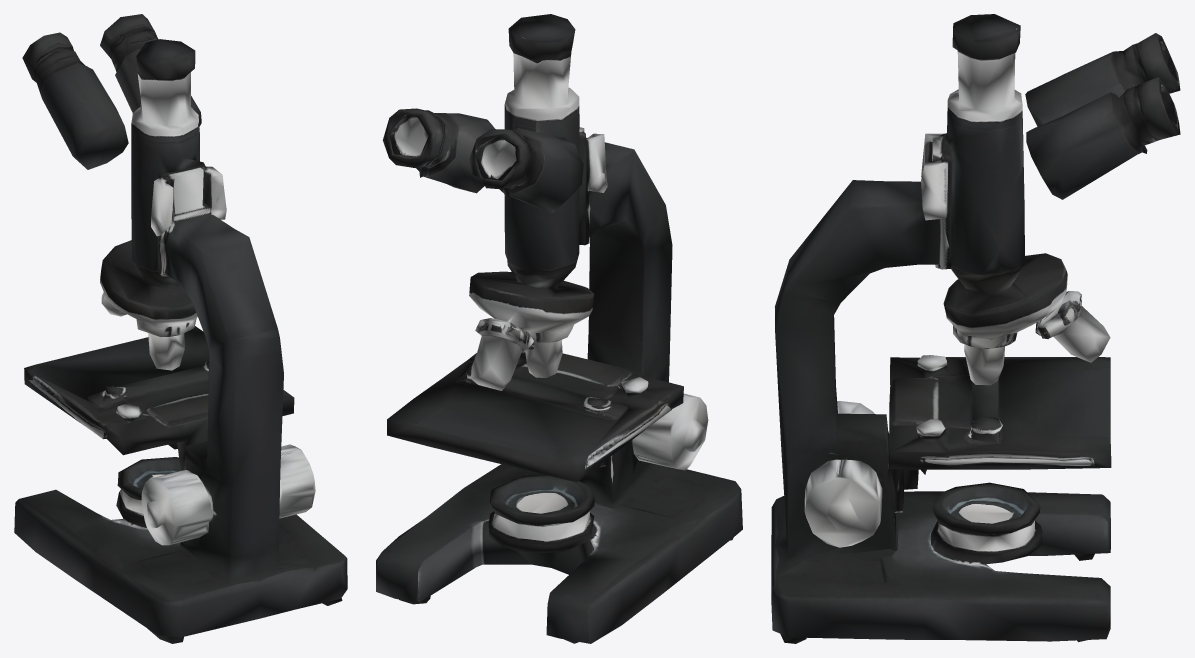
The model's file is microscope.glb.
The picture shows the model from 3 angles, left to right: view 1: azimuth 30°, elevation 25°; view 2: azimuth 150°, elevation 25°; view 3: azimuth 270°, elevation 25°; orthographic projection. The views are drawn at different scales.
Parts seen in each view (by area): view 1: tripo_node_b53a3d89-1bc2-435d-b94b-b9e8f09777b1; view 2: tripo_node_b53a3d89-1bc2-435d-b94b-b9e8f09777b1; view 3: tripo_node_b53a3d89-1bc2-435d-b94b-b9e8f09777b1.
Part boxes in pixels (x1,y1,x2,y2): tripo_node_b53a3d89-1bc2-435d-b94b-b9e8f09777b1: [14, 14, 347, 643]; tripo_node_b53a3d89-1bc2-435d-b94b-b9e8f09777b1: [376, 14, 742, 643]; tripo_node_b53a3d89-1bc2-435d-b94b-b9e8f09777b1: [771, 14, 1180, 643].
Size of the model in its own units: 0.4184 by 0.9987 by 0.6511.
1 material, 1 textured.
